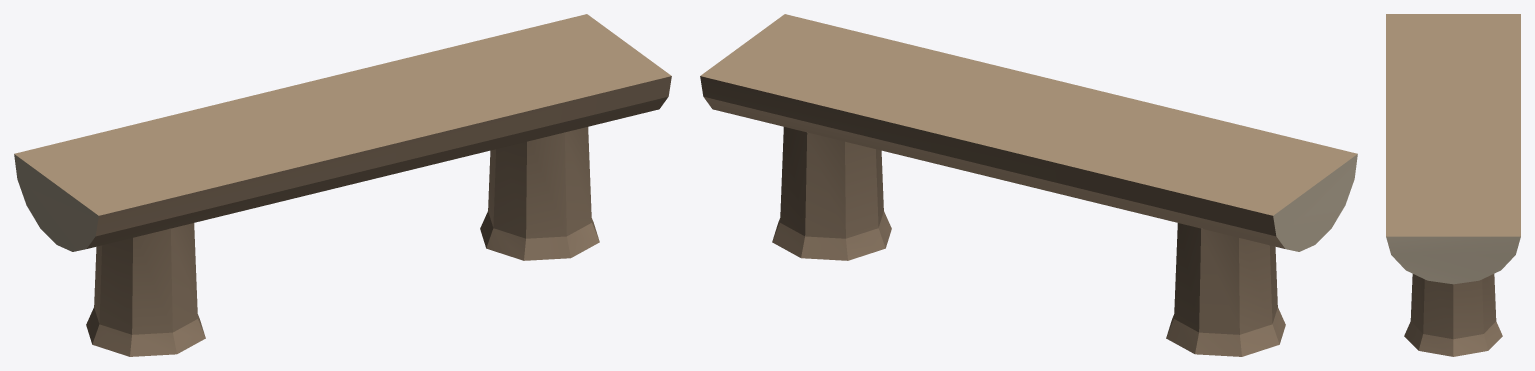
The model's file is log_bench_low.glb.
3 views of the same model, side by side, from view 1: azimuth 30°, elevation 25°; view 2: azimuth 150°, elevation 25°; view 3: azimuth 270°, elevation 25° (orthographic). The views are drawn at different scales.
Parts seen in each view (by area): view 1: log_bench; view 2: log_bench; view 3: log_bench.
Part boxes in pixels (left/top/right/bottom): log_bench: left=14, top=14, right=671, bottom=356; log_bench: left=700, top=14, right=1357, bottom=356; log_bench: left=1386, top=14, right=1520, bottom=356.
Bounding box in the file's own units: 1.6 × 0.45 × 0.41.
